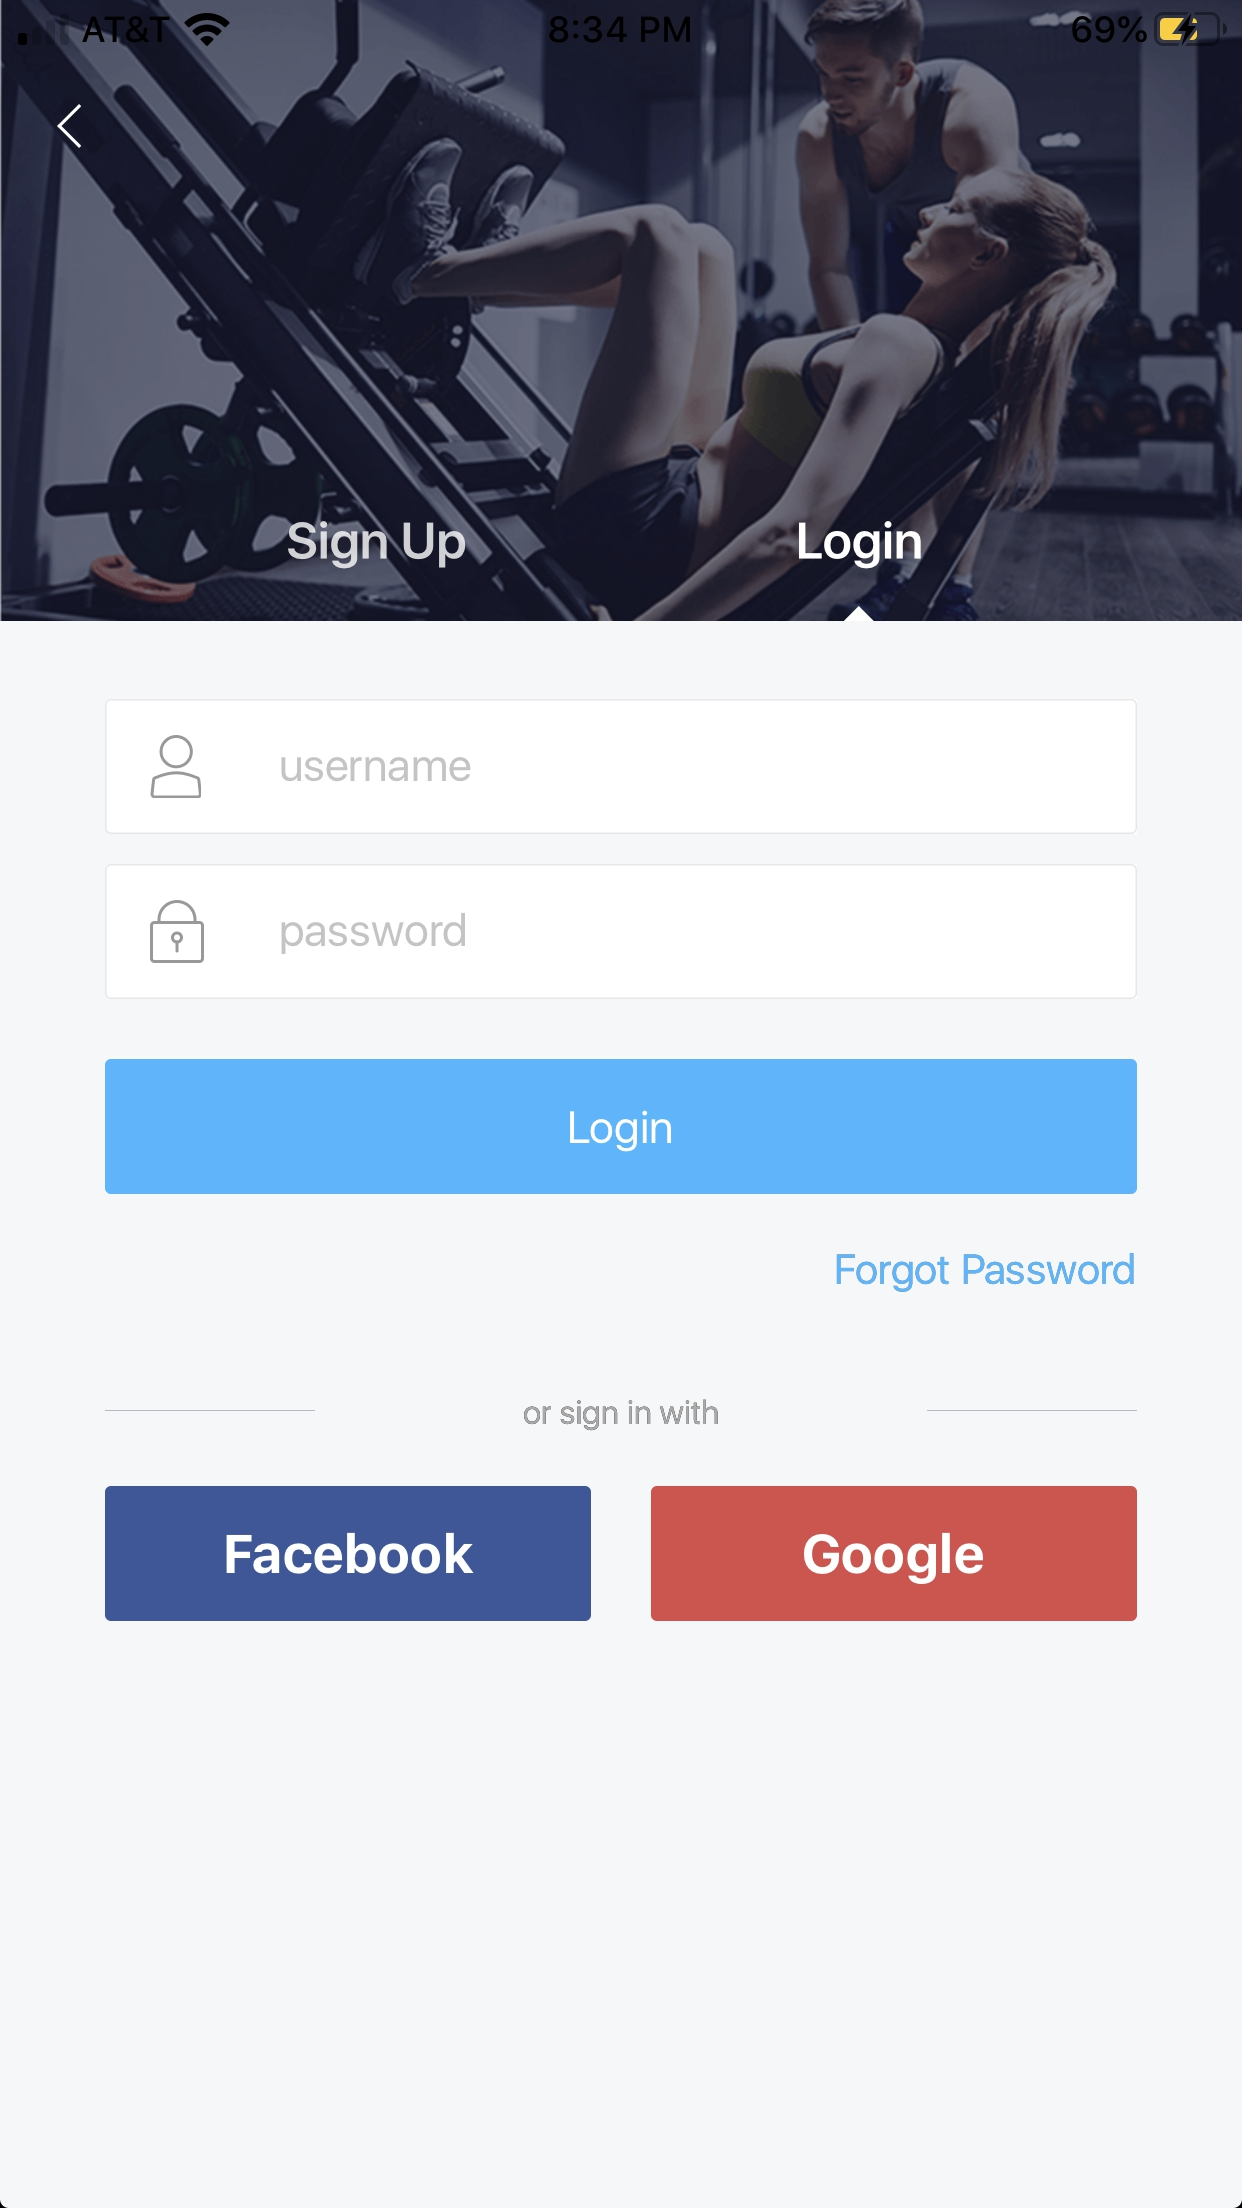EditText: (105, 699, 1137, 836), (105, 864, 1137, 999)
Icon: (152, 899, 205, 964), (152, 735, 202, 799), (58, 105, 82, 150)
Image: (2, 2, 1242, 622)
Text: (836, 1253, 1134, 1294), (288, 522, 466, 570), (282, 913, 466, 955), (525, 1400, 719, 1432), (799, 522, 922, 570), (282, 757, 472, 783)
TextButton: (105, 1060, 1137, 1195), (651, 1486, 1137, 1623), (105, 1486, 591, 1621)
UpperTaskBar: (2, 2, 1242, 49)
